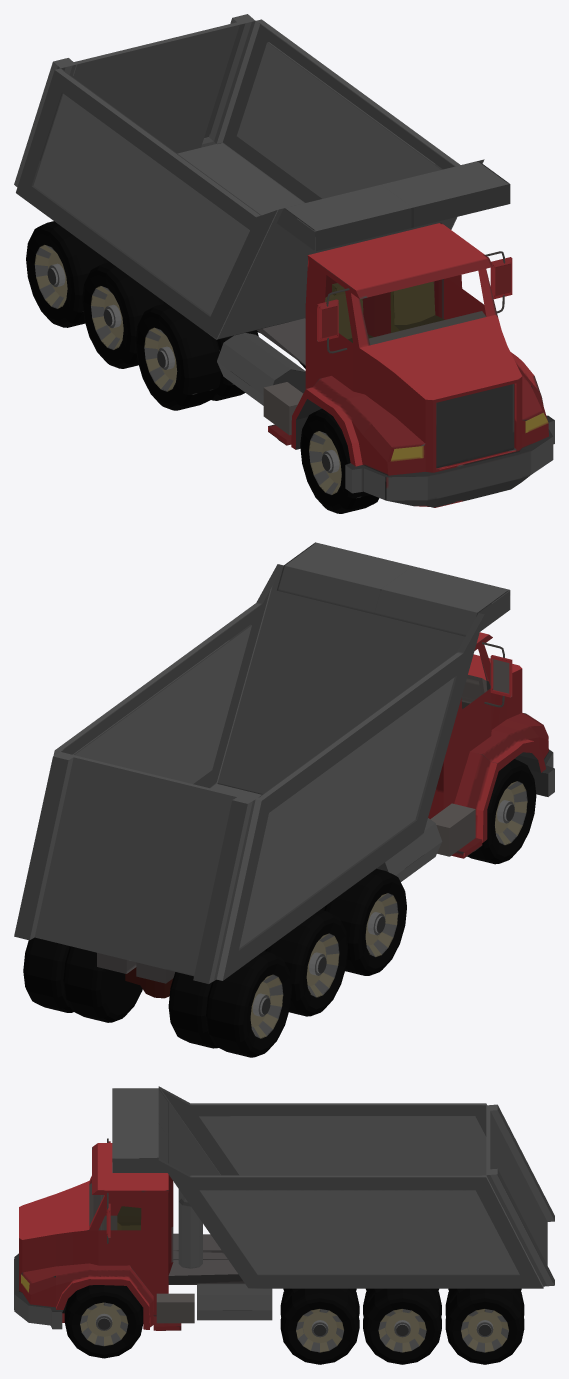
Rendered from truck2.glb.
3 views of the same model, one above another, from view 1: azimuth 30°, elevation 25°; view 2: azimuth 150°, elevation 25°; view 3: azimuth 270°, elevation 25° (orthographic). The views are drawn at different scales.
Parts seen in each view (by area): view 1: Cube, Plane, Cube.001, Cylinder.012, Cylinder.016, Cylinder.005, Cylinder.010, Cylinder.006, Cube.004, Cube.005, Cube.002, Plane.001; view 2: Cube, Cube.001, Plane, Cylinder.016, Cylinder.018, Cylinder.005, Cylinder.012, Cylinder.010, Cylinder.006, Cube.002, Cube.005, Cube.003; view 3: Cube, Plane, Cube.001, Cylinder.014, Cylinder.018, Cylinder.008, Cylinder.011, Cylinder.006, Cylinder.004, Cube.002, Cube.004, Plane.001.
Boxes of the visible parts, bbox=[...] form: Cube: bbox=[16, 19, 510, 339]; Plane: bbox=[257, 222, 554, 507]; Cube.001: bbox=[14, 14, 255, 187]; Cylinder.012: bbox=[135, 303, 258, 410]; Cylinder.016: bbox=[26, 221, 109, 327]; Cylinder.005: bbox=[82, 262, 165, 368]; Cylinder.010: bbox=[300, 408, 379, 513]; Cylinder.006: bbox=[217, 333, 305, 405]; Cube.004: bbox=[325, 281, 444, 342]; Cube.005: bbox=[317, 257, 512, 341]; Cube.002: bbox=[263, 382, 303, 435]; Plane.001: bbox=[369, 311, 485, 345]; Cube: bbox=[53, 542, 510, 980]; Cube.001: bbox=[14, 752, 255, 983]; Plane: bbox=[97, 632, 554, 983]; Cylinder.016: bbox=[168, 951, 291, 1057]; Cylinder.018: bbox=[23, 937, 142, 1022]; Cylinder.005: bbox=[264, 910, 348, 1016]; Cylinder.012: bbox=[320, 868, 406, 975]; Cylinder.010: bbox=[467, 759, 536, 864]; Cylinder.006: bbox=[377, 818, 442, 881]; Cube.002: bbox=[430, 803, 475, 856]; Cube.005: bbox=[490, 655, 512, 697]; Cube.003: bbox=[125, 967, 172, 998]; Cube: bbox=[112, 1086, 543, 1288]; Plane: bbox=[14, 1143, 244, 1330]; Cube.001: bbox=[486, 1104, 554, 1286]; Cylinder.014: bbox=[280, 1288, 359, 1364]; Cylinder.018: bbox=[445, 1288, 524, 1364]; Cylinder.008: bbox=[363, 1288, 441, 1364]; Cylinder.011: bbox=[64, 1285, 143, 1358]; Cylinder.006: bbox=[197, 1283, 272, 1320]; Cylinder.004: bbox=[178, 1189, 202, 1268]; Cube.002: bbox=[156, 1293, 194, 1323]; Cube.004: bbox=[117, 1206, 141, 1230]; Plane.001: bbox=[89, 1183, 117, 1230].
Bounding box in the file's own units: 5.08 × 5.99 × 14.43.
